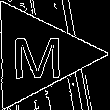M_N: (11, 29, 64, 80)
